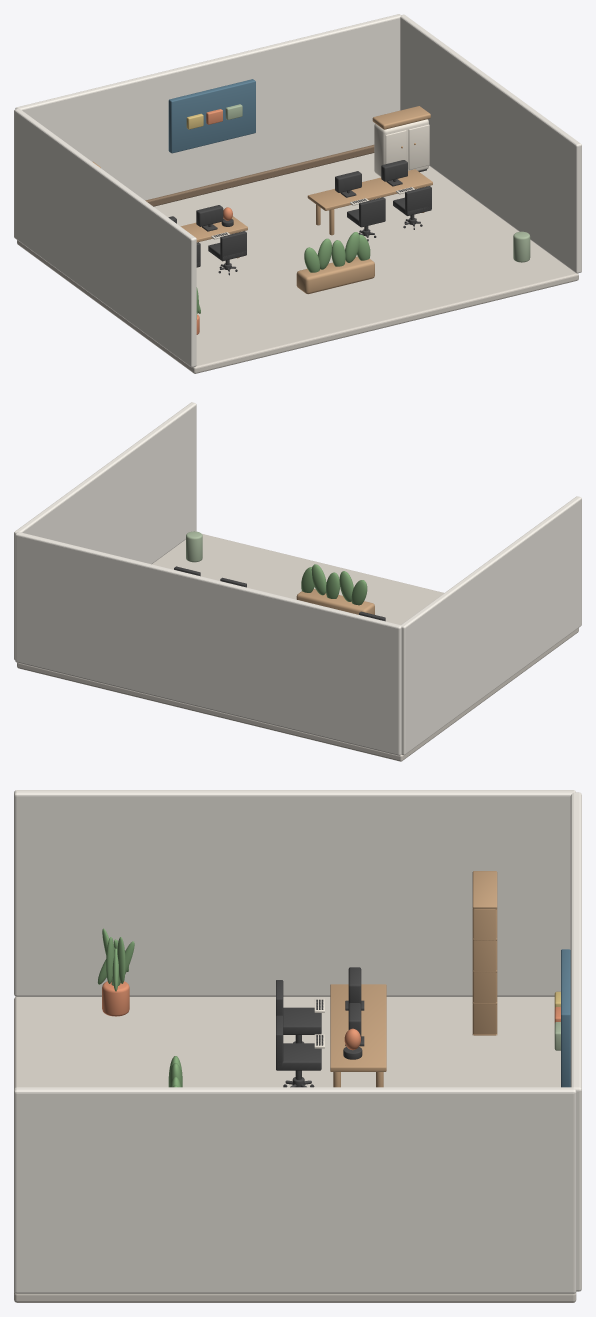
File: room-department.glb
The picture shows the model from 3 angles, top to bottom: view 1: azimuth 30°, elevation 25°; view 2: azimuth 150°, elevation 25°; view 3: azimuth 270°, elevation 25°; orthographic projection. The views are drawn at different scales.
Visible parts, largest first — view 1: room-department_floor, room-department_back, room-department_left, room-department_right, panel.003, room-department_trim, top.002, planter, carcass, door.001, worktop, top.001 (+8 smaller); view 2: room-department_back, room-department_left, room-department_right, room-department_floor, planter, bin; view 3: room-department_right, room-department_left, room-department_floor, room-department_back, top.001, side.001, panel.003, seat.004, seat.002, shelf.004, pot.004.
Part boxes in pixels (box(x1,y1,x2,y2)): room-department_floor: box(17, 153, 578, 373); room-department_back: box(15, 14, 400, 200); room-department_left: box(14, 108, 196, 367); room-department_right: box(400, 14, 581, 273); panel.003: box(168, 79, 255, 153); room-department_trim: box(145, 144, 374, 206); top.002: box(307, 169, 432, 210); planter: box(296, 256, 374, 294); carcass: box(374, 119, 428, 176); door.001: box(408, 124, 429, 169); worktop: box(372, 106, 430, 129); top.001: box(180, 216, 247, 242); room-department_back: box(15, 532, 401, 755); room-department_left: box(401, 496, 581, 755); room-department_right: box(14, 402, 196, 659); room-department_floor: box(17, 534, 578, 761); planter: box(296, 589, 374, 614); bin: box(186, 531, 202, 562); room-department_right: box(14, 1087, 576, 1293); room-department_left: box(14, 790, 575, 996); room-department_floor: box(14, 996, 576, 1302); room-department_back: box(570, 792, 581, 1291); top.001: box(330, 984, 386, 1071); side.001: box(472, 909, 497, 1034); panel.003: box(561, 949, 570, 1087); seat.004: box(276, 1043, 321, 1070); seat.002: box(283, 1007, 321, 1034); shelf.004: box(472, 871, 497, 909); pot.004: box(102, 981, 129, 1016).
Size of the model in its own units: 10.16 by 3.38 by 8.08.
